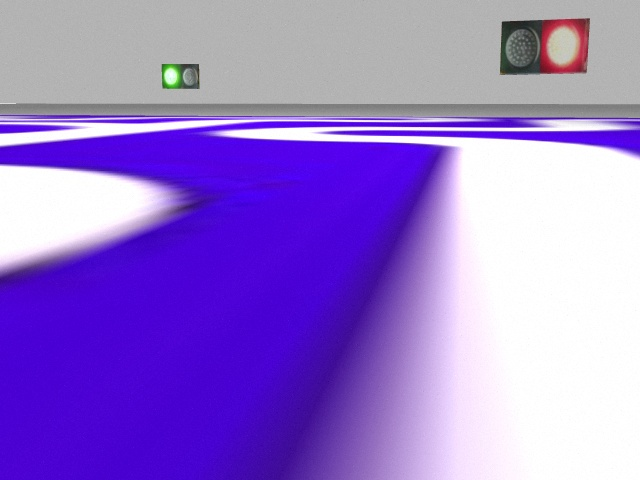red: (541, 19, 590, 73)
